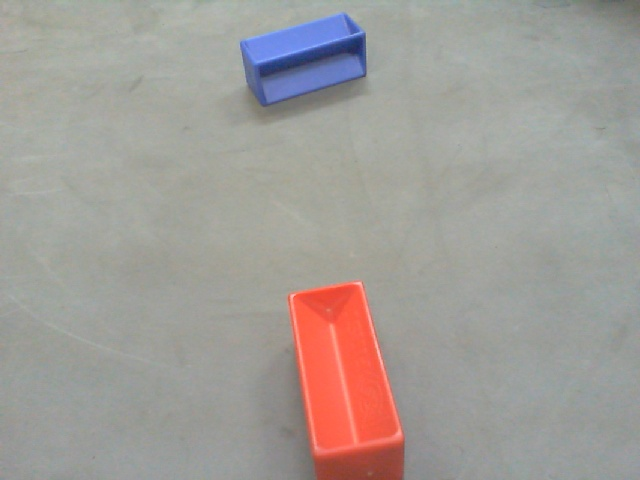BlueSample: (231, 10, 377, 104)
RedSample: (283, 272, 404, 480)
